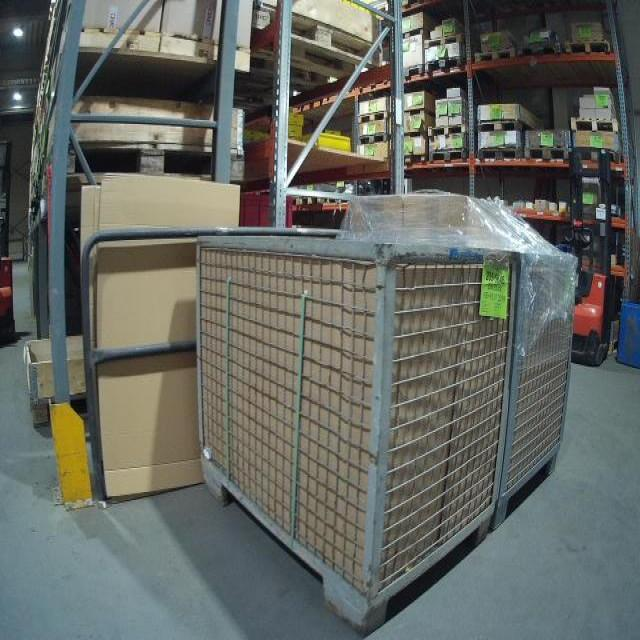pallet: (268, 13, 372, 67), (466, 45, 524, 71), (573, 148, 627, 170), (568, 113, 624, 134), (475, 146, 525, 169), (480, 115, 534, 136), (517, 39, 561, 63), (563, 40, 616, 58), (429, 149, 470, 170), (523, 147, 574, 163), (393, 104, 441, 121), (424, 34, 463, 53), (426, 55, 465, 73), (357, 107, 393, 125), (320, 194, 362, 208), (358, 131, 391, 148), (426, 125, 470, 137), (400, 151, 427, 170), (290, 192, 320, 207), (402, 63, 426, 78), (406, 130, 427, 143), (391, 32, 424, 40)
pallet_truck: (556, 139, 625, 375), (0, 134, 18, 352)
small_load_carrier: (234, 190, 295, 225)
stillage: (186, 219, 582, 639)
